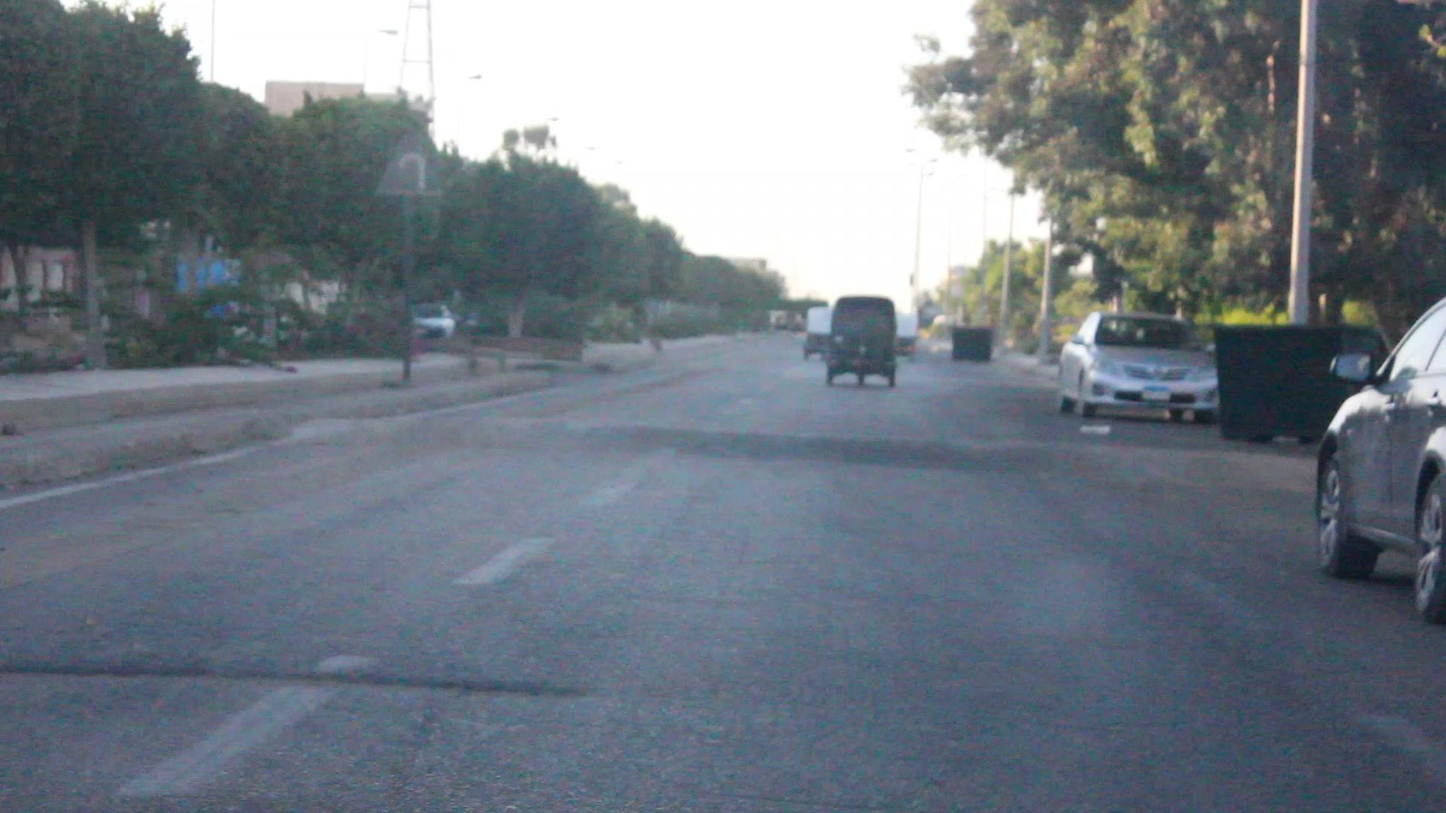Bump: (290, 406, 1327, 486)
